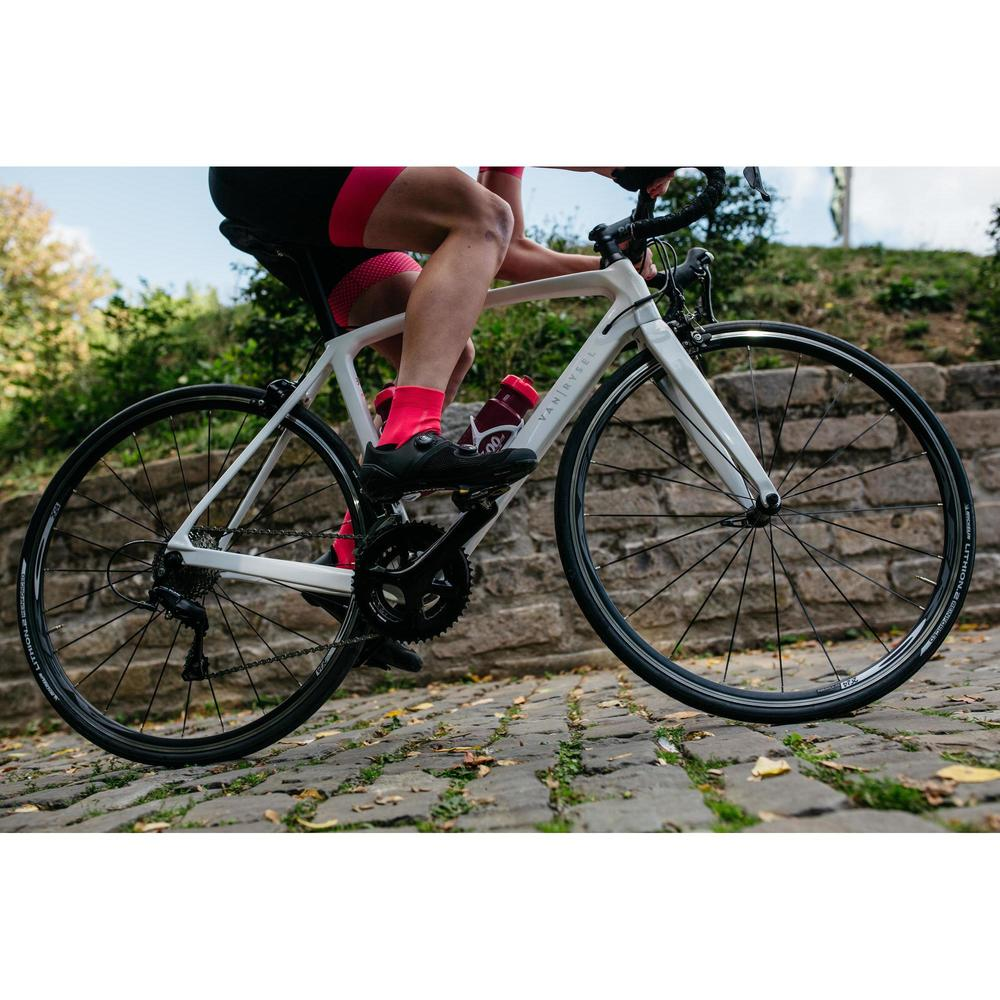RoadBike: (6, 160, 988, 770)
